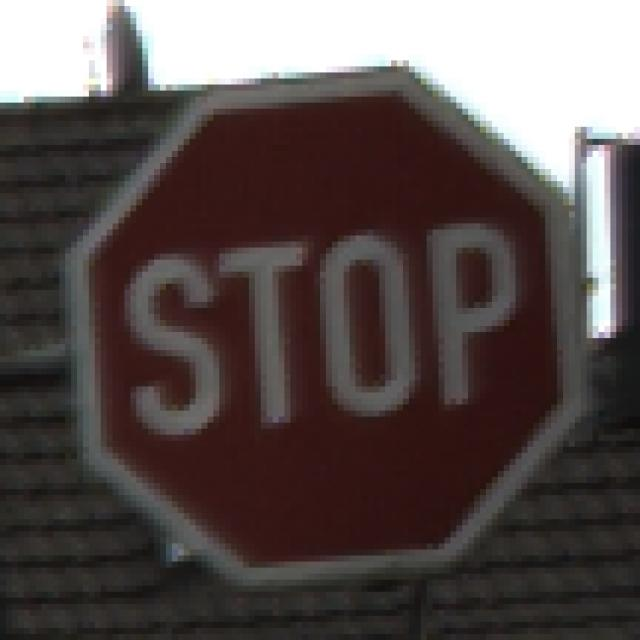STOP: (60, 61, 588, 587)
